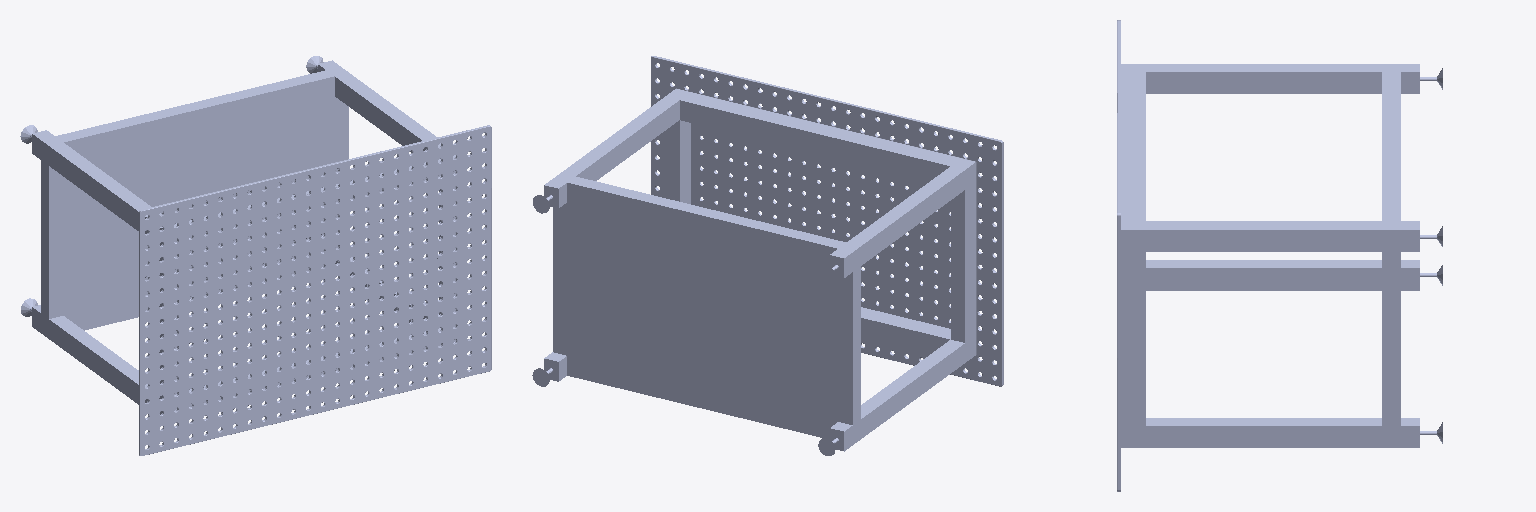
URDF robot description (Tablewithiiwa):
<?xml version="1.0" encoding="utf-8"?>
<!-- =================================================================================== -->
<!-- |    This document was autogenerated by xacro from Tablewithiiwa.urdf.xacro       | -->
<!-- |    EDITING THIS FILE BY HAND IS NOT RECOMMENDED                                 | -->
<!-- =================================================================================== -->
<robot name="Tablewithiiwa">
  <material name="Black">
    <color rgba="0.0 0.0 0.0 1.0"/>
  </material>
  <material name="Blue">
    <color rgba="0.0 0.0 0.8 1.0"/>
  </material>
  <material name="Green">
    <color rgba="0.0 0.8 0.0 1.0"/>
  </material>
  <material name="Grey">
    <color rgba="0.4 0.4 0.4 1.0"/>
  </material>
  <material name="Orange">
    <color rgba="1.0 0.423529411765 0.0392156862745 1.0"/>
  </material>
  <material name="Brown">
    <color rgba="0.870588235294 0.811764705882 0.764705882353 1.0"/>
  </material>
  <material name="Red">
    <color rgba="0.8 0.0 0.0 1.0"/>
  </material>
  <material name="White">
    <color rgba="1.0 1.0 1.0 1.0"/>
  </material>
  <link name="world"/>
  <joint name="world_to_base" type="fixed">
    <parent link="world"/>
    <child link="base_link"/>
    <origin rpy="0 0 0" xyz="0 0 0"/>
  </joint>
  <link name="base_link"/>
  <joint name="base_to_table" type="fixed">
    <parent link="base_link"/>
    <child link="table_link"/>
    <origin rpy="0 0 0" xyz="0 0 0"/>
  </joint>
  <link name="table_link">
    <inertial>
      <origin rpy="0 0 0" xyz="-0.41999987758599 0.441517808644207 -0.00999999708538072"/>
      <mass value="61.7576369744611"/>
      <inertia ixx="9.36626879067317" ixy="3.3397646292658E-06" ixz="-6.17756606248572E-08" iyy="10.4949464928445" iyz="7.95182066201114E-08" izz="13.8602771741833"/>
    </inertial>
    <visual>
      <origin rpy="0 0 0" xyz="0 0 0"/>
      <geometry>
        <mesh filename="package://table/meshes/table_link.STL"/>
      </geometry>
      <material name="">
        <color rgba="0.792156862745098 0.819607843137255 0.933333333333333 1"/>
      </material>
    </visual>
    <collision>
      <origin rpy="0 0 0" xyz="0 0 0"/>
      <geometry>
        <mesh filename="package://table/meshes/table_link.STL"/>
      </geometry>
    </collision>
  </link>
  <!--joint between {parent} and link_0-->
  <joint name="table_link_iiwa_joint" type="fixed">
    <origin rpy="0 0 0" xyz="0 0 0"/>
    <parent link="table_link"/>
    <child link="iiwa_link_0"/>
  </joint>
  <link name="iiwa_link_0">
    <inertial>
      <origin rpy="0 0 0" xyz="-0.1 0 0.07"/>
      <mass value="5"/>
      <inertia ixx="0.05" ixy="0" ixz="0" iyy="0.06" iyz="0" izz="0.03"/>
    </inertial>
    <visual>
      <origin rpy="0 0 0" xyz="0 0 0"/>
      <geometry>
        <mesh filename="package://iiwa_description/meshes/iiwa7/visual/link_0.stl"/>
      </geometry>
      <material name="Grey"/>
    </visual>
    <collision>
      <origin rpy="0 0 0" xyz="0 0 0"/>
      <geometry>
        <mesh filename="package://iiwa_description/meshes/iiwa7/collision/link_0.stl"/>
      </geometry>
      <material name="Grey"/>
    </collision>
    <self_collision_checking>
      <origin rpy="0 0 0" xyz="0 0 0"/>
      <geometry>
        <capsule length="0.25" radius="0.15"/>
      </geometry>
    </self_collision_checking>
  </link>
  <!-- joint between link_0 and link_1 -->
  <joint name="iiwa_joint_1" type="revolute">
    <parent link="iiwa_link_0"/>
    <child link="iiwa_link_1"/>
    <origin rpy="0 0 0" xyz="0 0 0.15"/>
    <axis xyz="0 0 1"/>
    <limit effort="300" lower="-2.96705972839" upper="2.96705972839" velocity="10"/>
    <safety_controller k_position="100" k_velocity="2" soft_lower_limit="-2.93215314335" soft_upper_limit="2.93215314335"/>
    <dynamics damping="0.5"/>
  </joint>
  <link name="iiwa_link_1">
    <inertial>
      <origin rpy="0 0 0" xyz="0 -0.03 0.12"/>
      <mass value="3.4525"/>
      <inertia ixx="0.02183" ixy="0" ixz="0" iyy="0.007703" iyz="-0.003887" izz="0.02083"/>
    </inertial>
    <visual>
      <origin rpy="0 0 0" xyz="0 0 0.0075"/>
      <geometry>
        <mesh filename="package://iiwa_description/meshes/iiwa7/visual/link_1.stl"/>
      </geometry>
      <material name="Orange"/>
    </visual>
    <collision>
      <origin rpy="0 0 0" xyz="0 0 0.0075"/>
      <geometry>
        <mesh filename="package://iiwa_description/meshes/iiwa7/collision/link_1.stl"/>
      </geometry>
      <material name="Orange"/>
    </collision>
  </link>
  <joint name="iiwa_joint_2" type="revolute">
    <parent link="iiwa_link_1"/>
    <child link="iiwa_link_2"/>
    <origin rpy="1.57079632679   0 3.14159265359" xyz="0 0 0.19"/>
    <axis xyz="0 0 1"/>
    <limit effort="300" lower="-2.09439510239" upper="2.09439510239" velocity="10"/>
    <safety_controller k_position="100" k_velocity="2" soft_lower_limit="-2.05948851735" soft_upper_limit="2.05948851735"/>
    <dynamics damping="0.5"/>
  </joint>
  <link name="iiwa_link_2">
    <inertial>
      <origin rpy="0 0 0" xyz="0.0003 0.059 0.042"/>
      <mass value="3.4821"/>
      <inertia ixx="0.02076" ixy="0" ixz="-0.003626" iyy="0.02179" iyz="0" izz="0.00779"/>
    </inertial>
    <visual>
      <origin rpy="0 0 0" xyz="0 0 0"/>
      <geometry>
        <mesh filename="package://iiwa_description/meshes/iiwa7/visual/link_2.stl"/>
      </geometry>
      <material name="Orange"/>
    </visual>
    <collision>
      <origin rpy="0 0 0" xyz="0 0 0"/>
      <geometry>
        <mesh filename="package://iiwa_description/meshes/iiwa7/collision/link_2.stl"/>
      </geometry>
      <material name="Orange"/>
    </collision>
  </link>
  <joint name="iiwa_joint_3" type="revolute">
    <parent link="iiwa_link_2"/>
    <child link="iiwa_link_3"/>
    <origin rpy="1.57079632679 0 3.14159265359" xyz="0 0.21 0"/>
    <axis xyz="0 0 1"/>
    <limit effort="300" lower="-2.96705972839" upper="2.96705972839" velocity="10"/>
    <safety_controller k_position="100" k_velocity="2" soft_lower_limit="-2.93215314335" soft_upper_limit="2.93215314335"/>
    <dynamics damping="0.5"/>
  </joint>
  <link name="iiwa_link_3">
    <inertial>
      <origin rpy="0 0 0" xyz="0 0.03 0.13"/>
      <mass value="4.05623"/>
      <inertia ixx="0.03204" ixy="0" ixz="0" iyy="0.00972" iyz="0.006227" izz="0.03042"/>
    </inertial>
    <visual>
      <origin rpy="0 0 0" xyz="0 0 -0.026"/>
      <geometry>
        <mesh filename="package://iiwa_description/meshes/iiwa7/visual/link_3.stl"/>
      </geometry>
      <material name="Orange"/>
    </visual>
    <collision>
      <origin rpy="0 0 0" xyz="0 0 -0.026"/>
      <geometry>
        <mesh filename="package://iiwa_description/meshes/iiwa7/collision/link_3.stl"/>
      </geometry>
      <material name="Orange"/>
    </collision>
  </link>
  <joint name="iiwa_joint_4" type="revolute">
    <parent link="iiwa_link_3"/>
    <child link="iiwa_link_4"/>
    <origin rpy="1.57079632679 0 0" xyz="0 0 0.19"/>
    <axis xyz="0 0 1"/>
    <limit effort="300" lower="-2.09439510239" upper="2.09439510239" velocity="10"/>
    <safety_controller k_position="100" k_velocity="2" soft_lower_limit="-2.05948851735" soft_upper_limit="2.05948851735"/>
    <dynamics damping="0.5"/>
  </joint>
  <link name="iiwa_link_4">
    <inertial>
      <origin rpy="0 0 0" xyz="0 0.067 0.034"/>
      <mass value="3.4822"/>
      <inertia ixx="0.02178" ixy="0" ixz="0" iyy="0.02075" iyz="-0.003625" izz="0.007785"/>
    </inertial>
    <visual>
      <origin rpy="0 0 0" xyz="0 0 0"/>
      <geometry>
        <mesh filename="package://iiwa_description/meshes/iiwa7/visual/link_4.stl"/>
      </geometry>
      <material name="Orange"/>
    </visual>
    <collision>
      <origin rpy="0 0 0" xyz="0 0 0"/>
      <geometry>
        <mesh filename="package://iiwa_description/meshes/iiwa7/collision/link_4.stl"/>
      </geometry>
      <material name="Orange"/>
    </collision>
  </link>
  <joint name="iiwa_joint_5" type="revolute">
    <parent link="iiwa_link_4"/>
    <child link="iiwa_link_5"/>
    <origin rpy="-1.57079632679 3.14159265359 0" xyz="0 0.21 0"/>
    <axis xyz="0 0 1"/>
    <limit effort="300" lower="-2.96705972839" upper="2.96705972839" velocity="10"/>
    <safety_controller k_position="100" k_velocity="2" soft_lower_limit="-2.93215314335" soft_upper_limit="2.93215314335"/>
    <dynamics damping="0.5"/>
  </joint>
  <link name="iiwa_link_5">
    <inertial>
      <origin rpy="0 0 0" xyz="0.0001 0.021 0.076"/>
      <mass value="2.1633"/>
      <inertia ixx="0.01287" ixy="0" ixz="0" iyy="0.005708" iyz="-0.003946" izz="0.01112"/>
    </inertial>
    <visual>
      <origin rpy="0 0 0" xyz="0 0 -0.026"/>
      <geometry>
        <mesh filename="package://iiwa_description/meshes/iiwa7/visual/link_5.stl"/>
      </geometry>
      <material name="Orange"/>
    </visual>
    <collision>
      <origin rpy="0 0 0" xyz="0 0 -0.026"/>
      <geometry>
        <mesh filename="package://iiwa_description/meshes/iiwa7/collision/link_5.stl"/>
      </geometry>
      <material name="Orange"/>
    </collision>
  </link>
  <joint name="iiwa_joint_6" type="revolute">
    <parent link="iiwa_link_5"/>
    <child link="iiwa_link_6"/>
    <origin rpy="1.57079632679 0 0" xyz="0 0.06070 0.19"/>
    <axis xyz="0 0 1"/>
    <limit effort="300" lower="-2.09439510239" upper="2.09439510239" velocity="10"/>
    <safety_controller k_position="100" k_velocity="2" soft_lower_limit="-2.05948851735" soft_upper_limit="2.05948851735"/>
    <dynamics damping="0.5"/>
  </joint>
  <link name="iiwa_link_6">
    <inertial>
      <origin rpy="0 0 0" xyz="0 0.0006 0.0004"/>
      <mass value="2.3466"/>
      <inertia ixx="0.006509" ixy="0" ixz="0" iyy="0.006259" iyz="0.00031891" izz="0.004527"/>
    </inertial>
    <visual>
      <origin rpy="0 0 0" xyz="0 0 0"/>
      <geometry>
        <mesh filename="package://iiwa_description/meshes/iiwa7/visual/link_6.stl"/>
      </geometry>
      <material name="Orange"/>
    </visual>
    <collision>
      <origin rpy="0 0 0" xyz="0 0 0"/>
      <geometry>
        <mesh filename="package://iiwa_description/meshes/iiwa7/collision/link_6.stl"/>
      </geometry>
      <material name="Orange"/>
    </collision>
  </link>
  <joint name="iiwa_joint_7" type="revolute">
    <parent link="iiwa_link_6"/>
    <child link="iiwa_link_7"/>
    <origin rpy="-1.57079632679 3.14159265359 0" xyz="0 0.081 0.06070"/>
    <axis xyz="0 0 1"/>
    <limit effort="300" lower="-3.05432619099" upper="3.05432619099" velocity="10"/>
    <safety_controller k_position="100" k_velocity="2" soft_lower_limit="-3.01941960595" soft_upper_limit="3.01941960595"/>
    <dynamics damping="0.5"/>
  </joint>
  <link name="iiwa_link_7">
    <inertial>
      <origin rpy="0 0 0" xyz="0 0 0.02"/>
      <mass value="3.129"/>
      <inertia ixx="0.01464" ixy="0.0005912" ixz="0" iyy="0.01465" iyz="0" izz="0.002872"/>
    </inertial>
    <visual>
      <origin rpy="0 0 0" xyz="0 0 -0.0005"/>
      <geometry>
        <mesh filename="package://iiwa_description/meshes/iiwa7/visual/link_7.stl"/>
      </geometry>
      <material name="Grey"/>
    </visual>
    <collision>
      <origin rpy="0 0 0" xyz="0 0 -0.0005"/>
      <geometry>
        <mesh filename="package://iiwa_description/meshes/iiwa7/collision/link_7.stl"/>
      </geometry>
      <material name="Grey"/>
    </collision>
  </link>
  <joint name="iiwa_joint_ee" type="fixed">
    <parent link="iiwa_link_7"/>
    <child link="iiwa_link_ee"/>
    <origin rpy="0 0 0" xyz="0 0 0.045"/>
  </joint>
  <link name="iiwa_link_ee">
    </link>
  <!-- Enable the Joint Feedback -->
  <gazebo reference="iiwa_joint_7">
    <provideFeedback>true</provideFeedback>
  </gazebo>
  <!-- The ft_sensor plugin -->
  <gazebo>
    <plugin filename="libgazebo_ros_ft_sensor.so" name="ft_sensor">
      <updateRate>50.0</updateRate>
      <topicName>/iiwa/state/CartesianWrench</topicName>
      <jointName>iiwa_joint_7</jointName>
    </plugin>
  </gazebo>
  <!-- Load Gazebo lib and set the robot namespace -->
  <gazebo>
    <plugin filename="libgazebo_ros_control.so" name="gazebo_ros_control">
      <robotNamespace>/iiwa</robotNamespace>
    </plugin>
  </gazebo>
  <!-- Link0 -->
  <gazebo reference="iiwa_link_0">
    <material>Gazebo/Grey</material>
    <mu1>0.2</mu1>
    <mu2>0.2</mu2>
  </gazebo>
  <!-- Link1 -->
  <gazebo reference="iiwa_link_1">
    <material>Gazebo/Orange</material>
    <mu1>0.2</mu1>
    <mu2>0.2</mu2>
  </gazebo>
  <!-- Link2 -->
  <gazebo reference="iiwa_link_2">
    <material>Gazebo/Orange</material>
    <mu1>0.2</mu1>
    <mu2>0.2</mu2>
  </gazebo>
  <!-- Link3 -->
  <gazebo reference="iiwa_link_3">
    <material>Gazebo/Orange</material>
    <mu1>0.2</mu1>
    <mu2>0.2</mu2>
  </gazebo>
  <!-- Link4 -->
  <gazebo reference="iiwa_link_4">
    <material>Gazebo/Orange</material>
    <mu1>0.2</mu1>
    <mu2>0.2</mu2>
  </gazebo>
  <!-- Link5 -->
  <gazebo reference="iiwa_link_5">
    <material>Gazebo/Orange</material>
    <mu1>0.2</mu1>
    <mu2>0.2</mu2>
  </gazebo>
  <!-- Link6 -->
  <gazebo reference="iiwa_link_6">
    <material>Gazebo/Orange</material>
    <mu1>0.2</mu1>
    <mu2>0.2</mu2>
  </gazebo>
  <!-- Link7 -->
  <gazebo reference="iiwa_link_7">
    <material>Gazebo/Grey</material>
    <mu1>0.2</mu1>
    <mu2>0.2</mu2>
  </gazebo>
  <transmission name="iiwa_tran_1">
    <robotNamespace>/iiwa</robotNamespace>
    <type>transmission_interface/SimpleTransmission</type>
    <joint name="iiwa_joint_1">
      <hardwareInterface>hardware_interface/PositionJointInterface</hardwareInterface>
    </joint>
    <actuator name="iiwa_motor_1">
      <hardwareInterface>hardware_interface/PositionJointInterface</hardwareInterface>
      <mechanicalReduction>1</mechanicalReduction>
    </actuator>
  </transmission>
  <transmission name="iiwa_tran_2">
    <robotNamespace>/iiwa</robotNamespace>
    <type>transmission_interface/SimpleTransmission</type>
    <joint name="iiwa_joint_2">
      <hardwareInterface>hardware_interface/PositionJointInterface</hardwareInterface>
    </joint>
    <actuator name="iiwa_motor_2">
      <hardwareInterface>hardware_interface/PositionJointInterface</hardwareInterface>
      <mechanicalReduction>1</mechanicalReduction>
    </actuator>
  </transmission>
  <transmission name="iiwa_tran_3">
    <robotNamespace>/iiwa</robotNamespace>
    <type>transmission_interface/SimpleTransmission</type>
    <joint name="iiwa_joint_3">
      <hardwareInterface>hardware_interface/PositionJointInterface</hardwareInterface>
    </joint>
    <actuator name="iiwa_motor_3">
      <hardwareInterface>hardware_interface/PositionJointInterface</hardwareInterface>
      <mechanicalReduction>1</mechanicalReduction>
    </actuator>
  </transmission>
  <transmission name="iiwa_tran_4">
    <robotNamespace>/iiwa</robotNamespace>
    <type>transmission_interface/SimpleTransmission</type>
    <joint name="iiwa_joint_4">
      <hardwareInterface>hardware_interface/PositionJointInterface</hardwareInterface>
    </joint>
    <actuator name="iiwa_motor_4">
      <hardwareInterface>hardware_interface/PositionJointInterface</hardwareInterface>
      <mechanicalReduction>1</mechanicalReduction>
    </actuator>
  </transmission>
  <transmission name="iiwa_tran_5">
    <robotNamespace>/iiwa</robotNamespace>
    <type>transmission_interface/SimpleTransmission</type>
    <joint name="iiwa_joint_5">
      <hardwareInterface>hardware_interface/PositionJointInterface</hardwareInterface>
    </joint>
    <actuator name="iiwa_motor_5">
      <hardwareInterface>hardware_interface/PositionJointInterface</hardwareInterface>
      <mechanicalReduction>1</mechanicalReduction>
    </actuator>
  </transmission>
  <transmission name="iiwa_tran_6">
    <robotNamespace>/iiwa</robotNamespace>
    <type>transmission_interface/SimpleTransmission</type>
    <joint name="iiwa_joint_6">
      <hardwareInterface>hardware_interface/PositionJointInterface</hardwareInterface>
    </joint>
    <actuator name="iiwa_motor_6">
      <hardwareInterface>hardware_interface/PositionJointInterface</hardwareInterface>
      <mechanicalReduction>1</mechanicalReduction>
    </actuator>
  </transmission>
  <transmission name="iiwa_tran_7">
    <robotNamespace>/iiwa</robotNamespace>
    <type>transmission_interface/SimpleTransmission</type>
    <joint name="iiwa_joint_7">
      <hardwareInterface>hardware_interface/PositionJointInterface</hardwareInterface>
    </joint>
    <actuator name="iiwa_motor_7">
      <hardwareInterface>hardware_interface/PositionJointInterface</hardwareInterface>
      <mechanicalReduction>1</mechanicalReduction>
    </actuator>
  </transmission>
</robot>

--- What the picture shows (computed from the rendered views, not written in the file) ---
3 views of the same robot in one strip: view 1: azimuth 30°, elevation 25°; view 2: azimuth 150°, elevation 25°; view 3: azimuth 270°, elevation 25° (orthographic).
Robot: Tablewithiiwa — 12 links, 11 joints (7 revolute, 4 fixed); root link world; default pose: all joints at 0.
Visible links, largest first — view 1: table_link; view 2: table_link; view 3: table_link.
Boxes of the visible links, bbox=[...] form: table_link: bbox=[20, 56, 491, 455]; table_link: bbox=[532, 56, 1003, 455]; table_link: bbox=[1117, 20, 1442, 491].
Bounding box of the posed robot: 1.2 × 0.8505 × 0.8 m (x, y, z).
Meshes: 9 distinct files referenced, 1 mesh visuals loaded (1 binary STL); not drawn: 8 (reference not matched to a file when rendering).